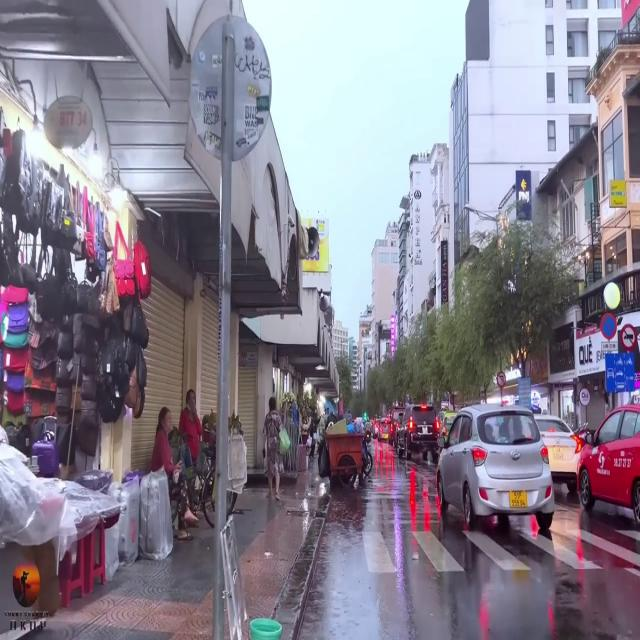bien_vang: (509, 488, 527, 510)
